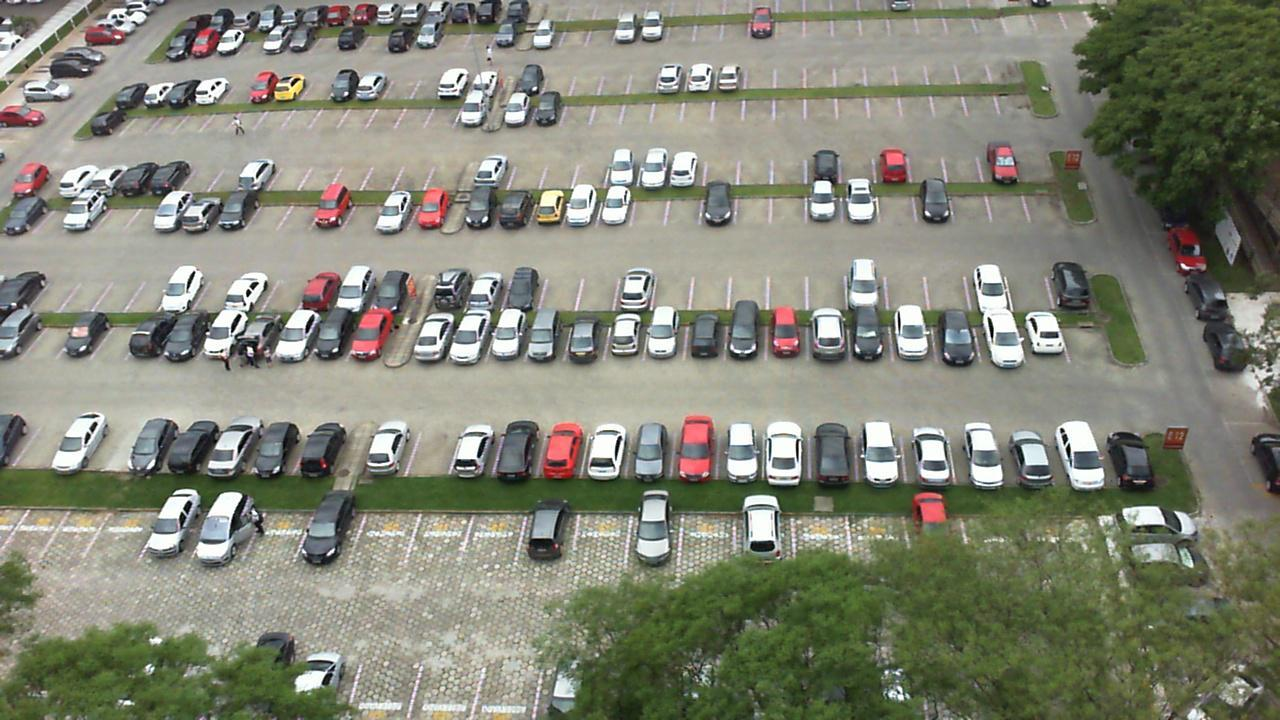empty: (246, 497, 315, 564), (87, 500, 158, 561), (461, 507, 527, 567), (351, 501, 418, 558), (408, 504, 475, 561), (42, 501, 110, 555), (576, 505, 629, 567), (1059, 304, 1113, 358), (405, 416, 457, 472), (885, 254, 931, 307), (259, 265, 312, 310), (1011, 256, 1054, 307), (278, 185, 324, 230), (1022, 175, 1068, 220), (345, 185, 388, 233), (928, 257, 969, 307), (809, 254, 848, 306), (573, 263, 618, 308), (763, 260, 807, 306), (689, 260, 727, 309), (537, 266, 580, 307), (648, 264, 688, 307), (728, 264, 766, 307), (956, 177, 992, 222), (735, 182, 772, 225), (987, 180, 1027, 219), (665, 186, 699, 227), (775, 182, 807, 225), (880, 182, 915, 219), (632, 187, 664, 226)
occupied: (188, 500, 264, 564), (141, 501, 211, 563), (295, 499, 363, 562), (1089, 416, 1151, 479), (446, 416, 508, 477), (997, 419, 1054, 485), (518, 504, 581, 563), (624, 507, 683, 570), (127, 412, 185, 472), (1045, 417, 1098, 481), (952, 418, 1004, 482), (234, 305, 291, 363), (211, 416, 268, 473), (165, 416, 223, 472), (443, 306, 497, 366), (903, 421, 957, 480), (856, 421, 909, 481), (535, 419, 588, 477), (272, 301, 323, 361), (492, 418, 545, 475), (254, 416, 307, 472), (307, 308, 359, 365), (625, 418, 672, 481), (295, 420, 349, 474), (523, 304, 571, 364), (718, 417, 764, 479), (811, 421, 858, 480), (349, 306, 396, 364), (763, 416, 809, 475), (481, 309, 529, 365), (669, 418, 717, 474), (202, 304, 249, 361), (580, 419, 626, 477), (972, 307, 1022, 360), (966, 255, 1014, 309), (362, 420, 412, 471), (410, 307, 449, 368), (226, 267, 280, 310), (606, 310, 648, 364), (1051, 258, 1098, 306), (295, 266, 344, 312), (934, 309, 976, 362), (375, 184, 421, 232), (888, 311, 934, 359), (1017, 311, 1062, 360), (310, 185, 355, 233), (335, 268, 386, 310), (643, 312, 685, 363), (849, 257, 889, 310), (565, 310, 604, 364), (725, 310, 766, 361), (808, 308, 848, 360), (377, 268, 424, 312), (851, 311, 891, 362), (458, 267, 503, 311), (409, 187, 452, 232), (461, 184, 503, 230), (767, 310, 804, 362), (426, 269, 471, 310), (503, 264, 546, 306), (614, 263, 655, 307), (690, 310, 724, 361), (598, 186, 634, 230), (565, 184, 599, 230), (917, 182, 956, 222), (534, 186, 567, 232), (500, 186, 535, 229), (807, 183, 842, 222), (844, 183, 879, 222), (702, 184, 734, 222)
